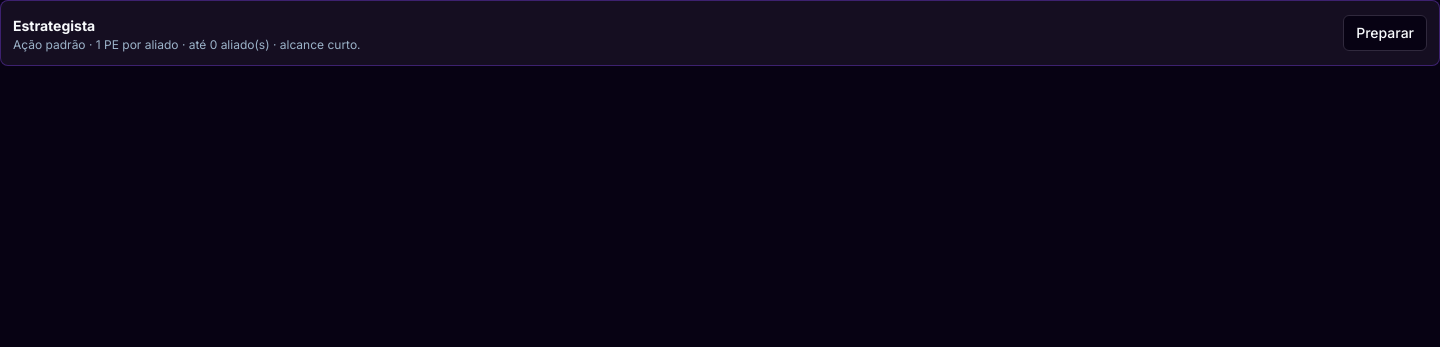
Test: Estrategista › bloqueia Intelecto zero e evita confirmação sem aliados
This screenshot has width=1440, height=347.
Click the button "Preparar" at {"x": 1385, "y": 33}, box [1343,15,1427,51]
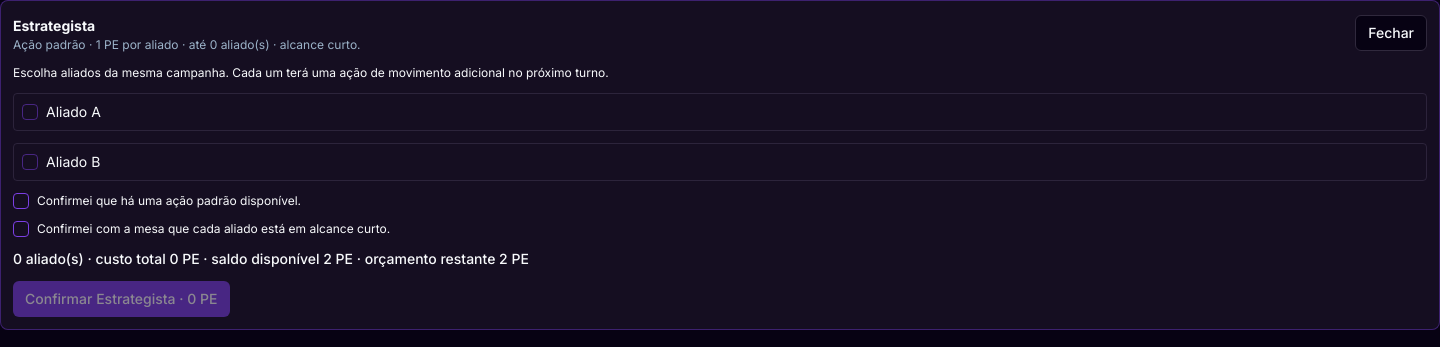
Check: the checkbox named "Direcionar Aliado A" is disabled, box [22,104,38,120]
Check: the button "Confirmar Estrategista · 0 PE" is disabled, box [13,281,230,317]
